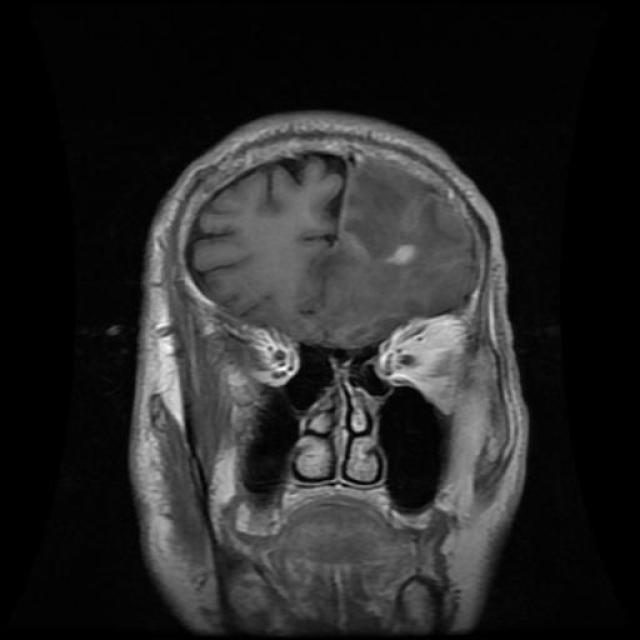glioma: (198, 296, 438, 496)
